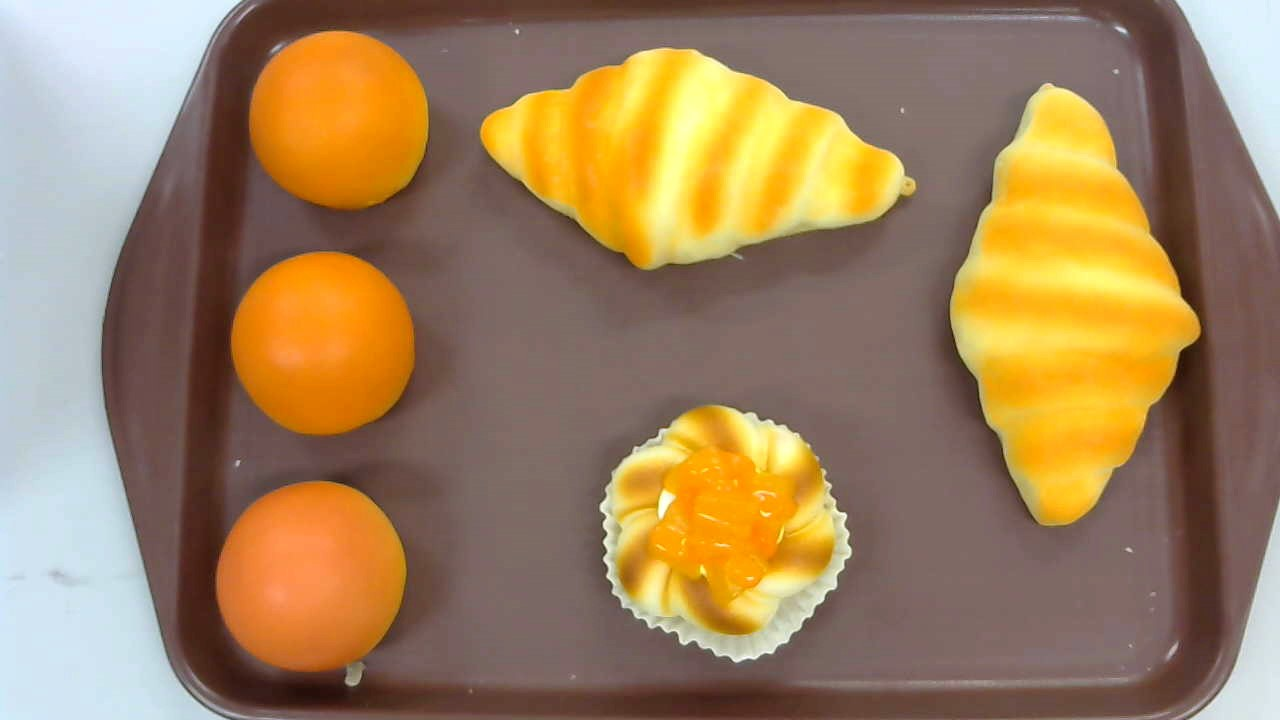bun: (216, 480, 406, 672), (230, 249, 415, 436), (248, 30, 428, 209)
croissant: (948, 81, 1202, 528), (479, 44, 919, 272)
mango tart: (598, 403, 853, 662)
